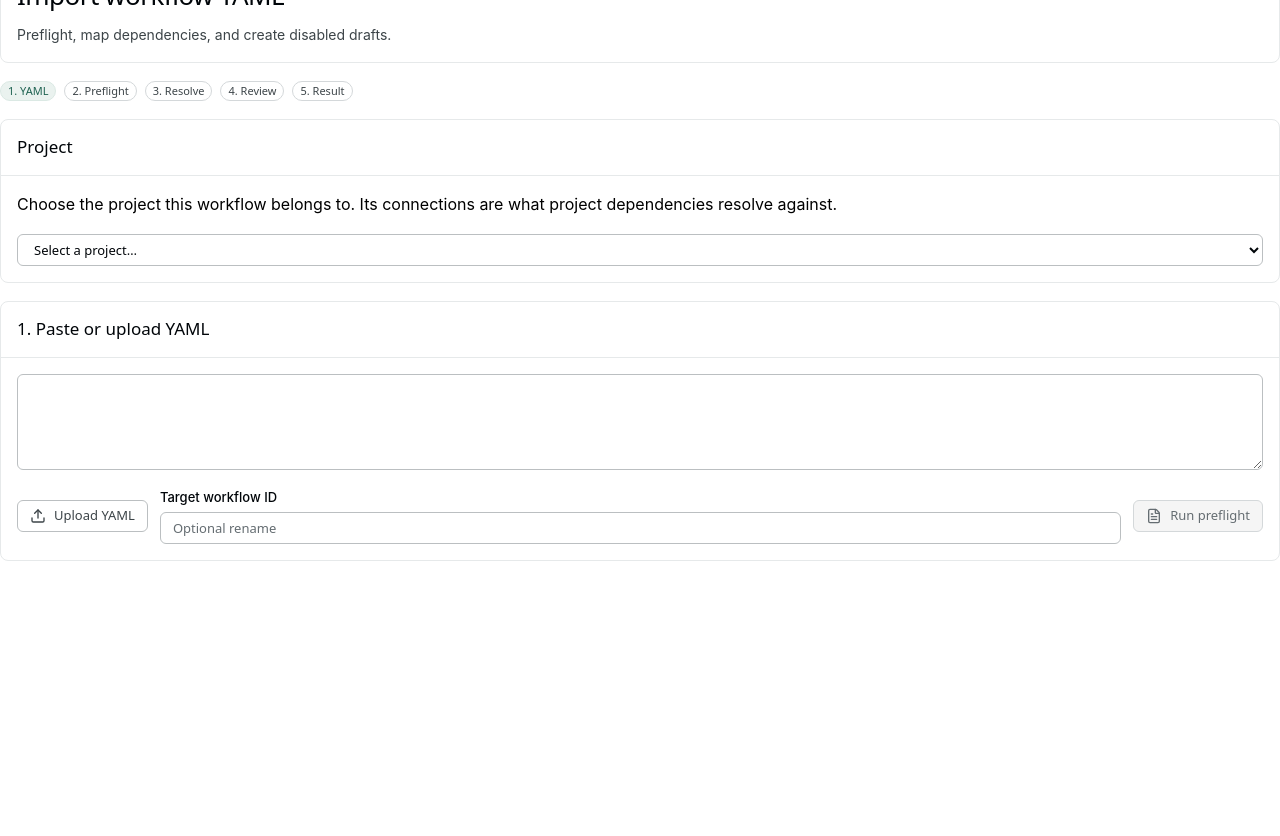
Test: WorkflowsImportPage › keeps an occupied rename blocked until a free target is checked
Type "bundle" into the text box named "Workflow bundle YAML" at (640, 422), box [17,374,1263,470]
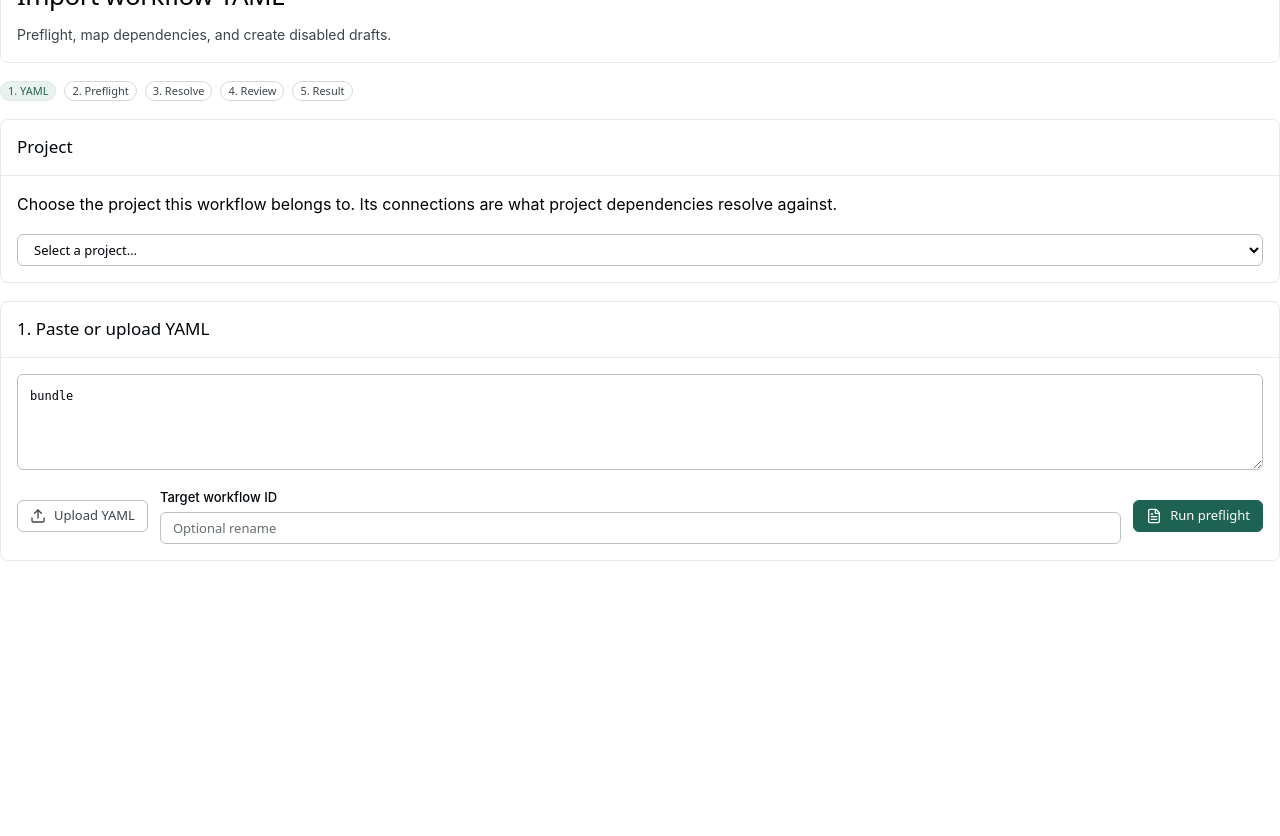
Click the button "Run preflight" at (1198, 516), box [1133,500,1263,532]
(page scrolled)
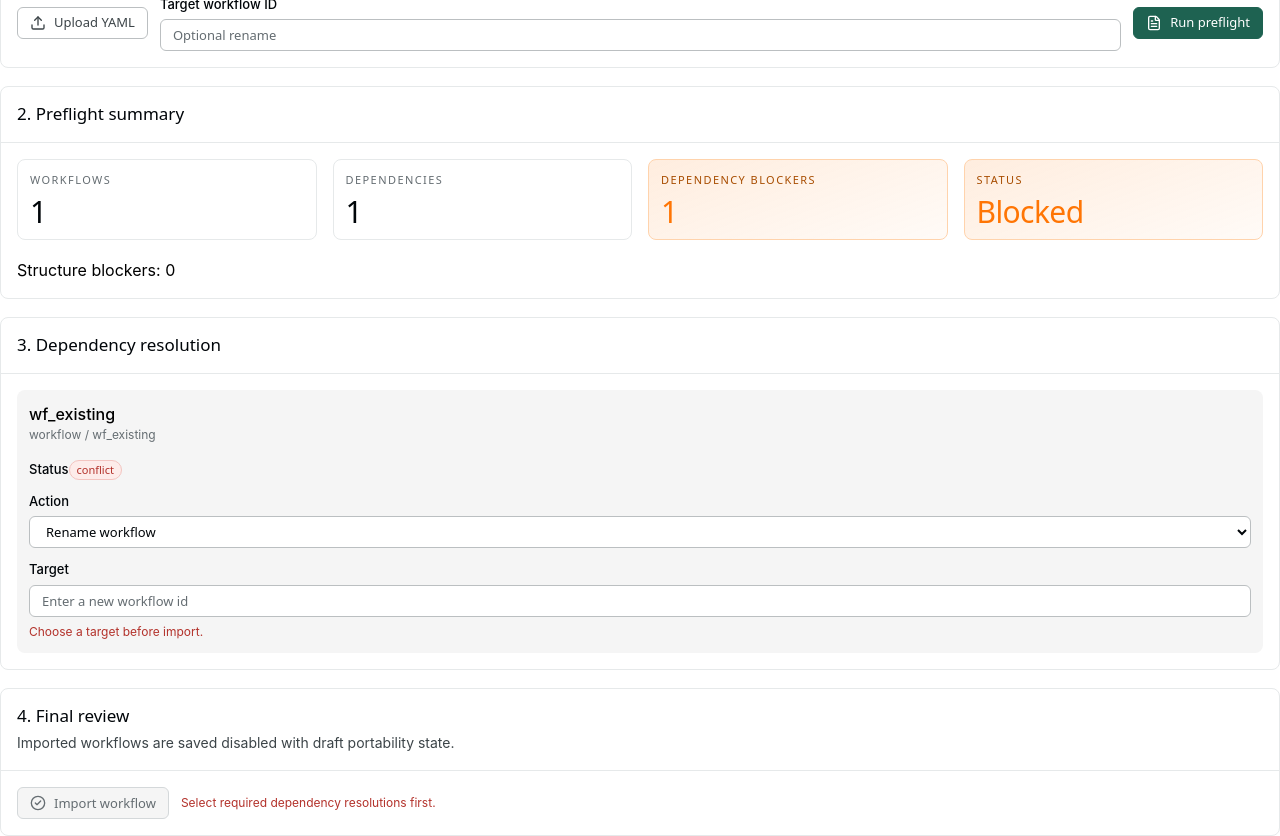
Type "wf_occupied" into the field named "New workflow id for wf_existing" at (640, 601), box [29,585,1251,617]
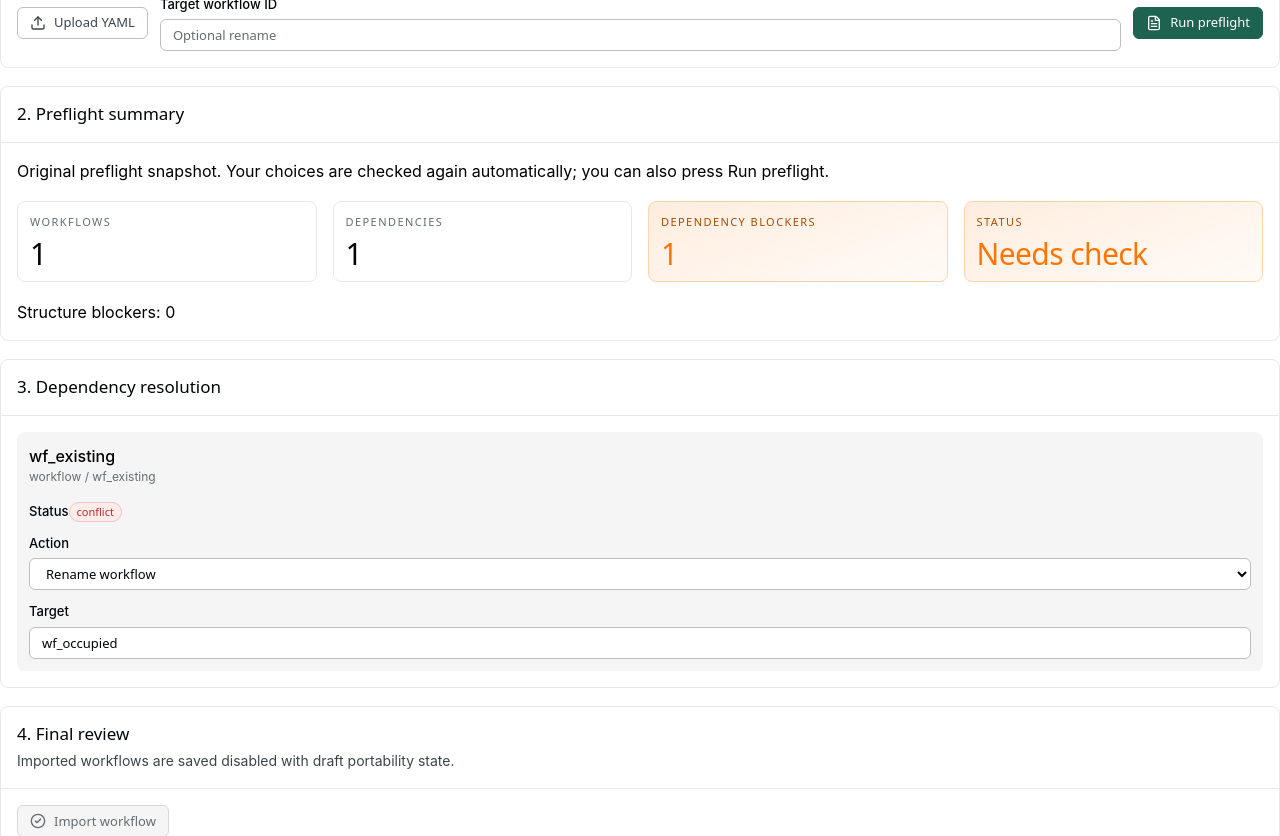
Expected: the button "Import workflow" is disabled, [17,805,169,835]
Click the button "Run preflight" at (1198, 23), box [1133,7,1263,39]
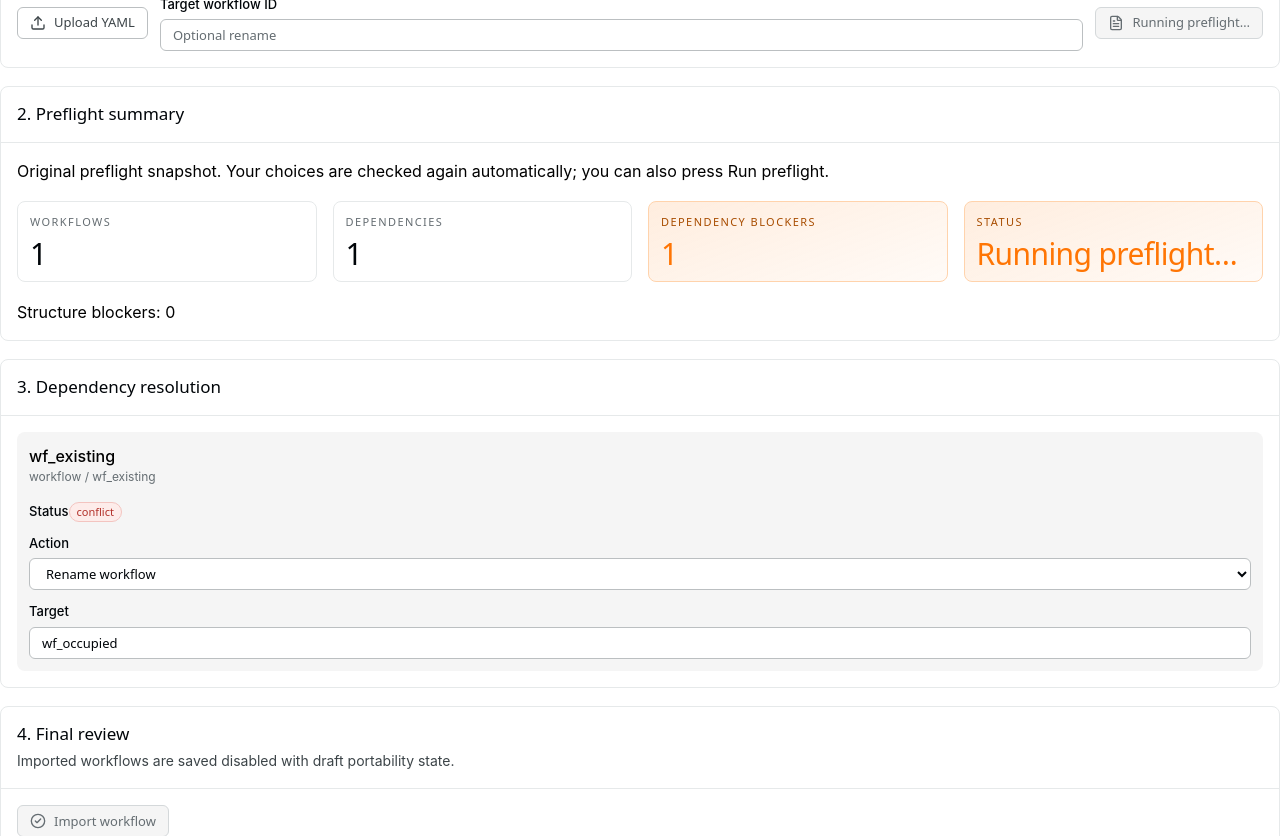
Expected: the text "Ready" is not shown
Expected: the button "Import workflow" is disabled, [17,805,169,835]
Replace the text in the field named "New workflow id for wf_existing" with "wf_free" at (640, 643), box [29,627,1251,659]
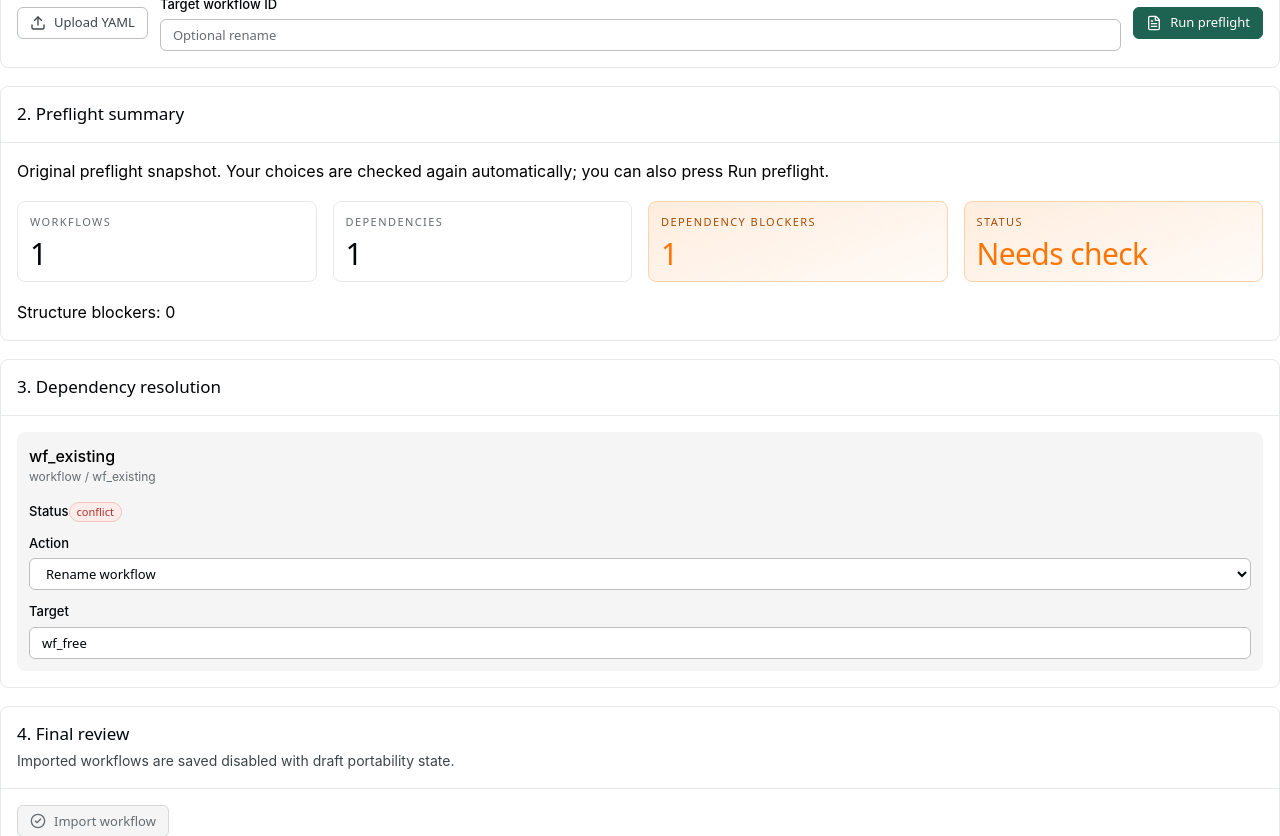
Click the button "Run preflight" at (1198, 23), box [1133,7,1263,39]
(page scrolled)
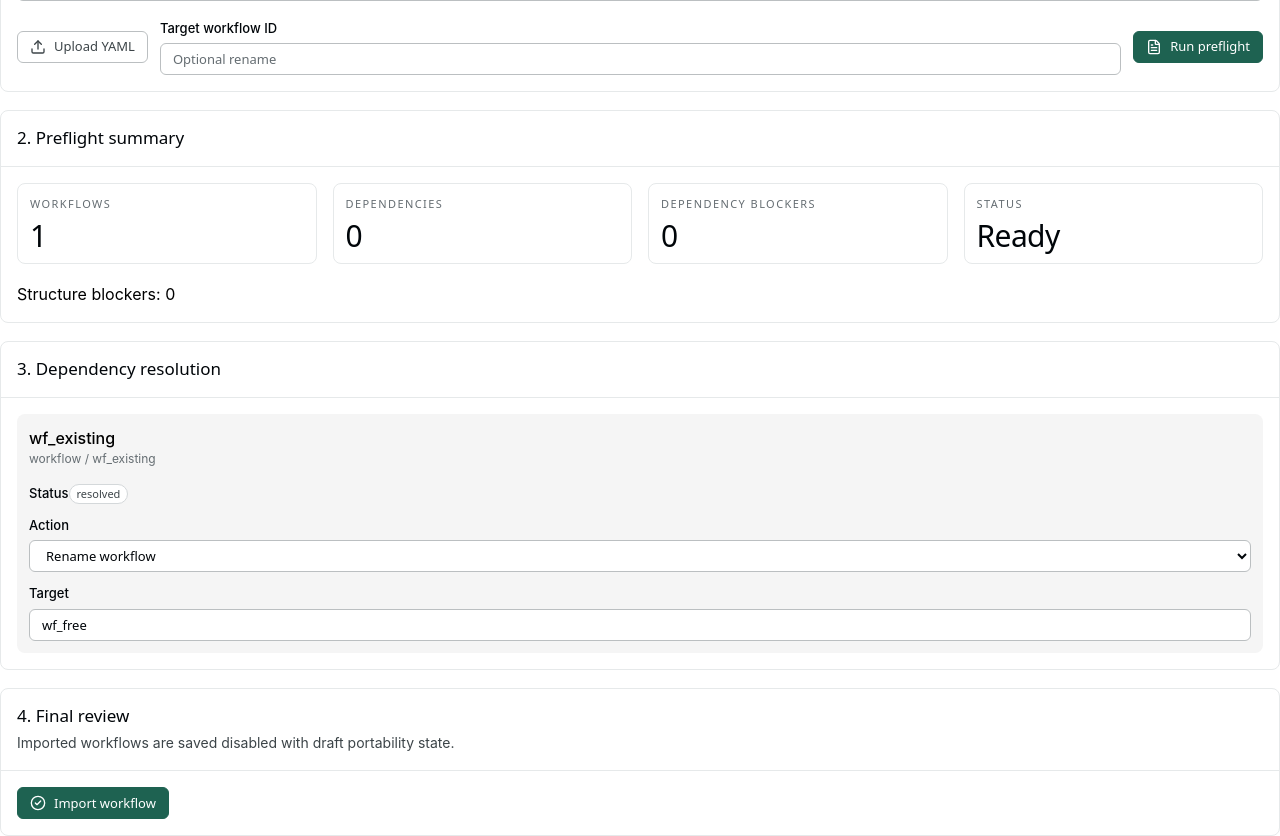
Expected: the text "Ready" is shown, [976,215,1060,256]
Expected: the button "Import workflow" is enabled, [17,787,169,819]
